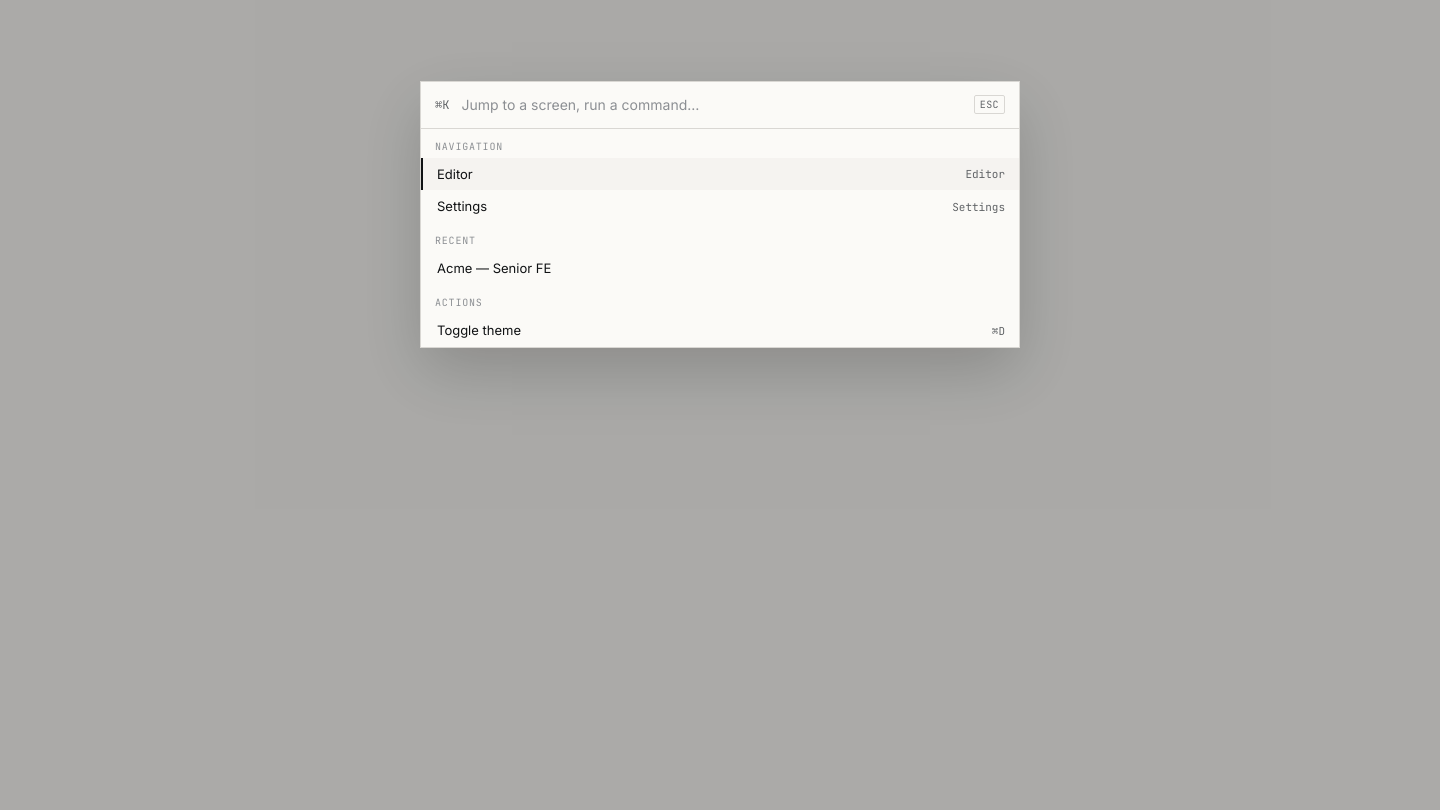
Test: typing matches against keywords as well as label
Type "latex" into the field named "search commands" at coordinates (712, 105), box [459,94,964,116]
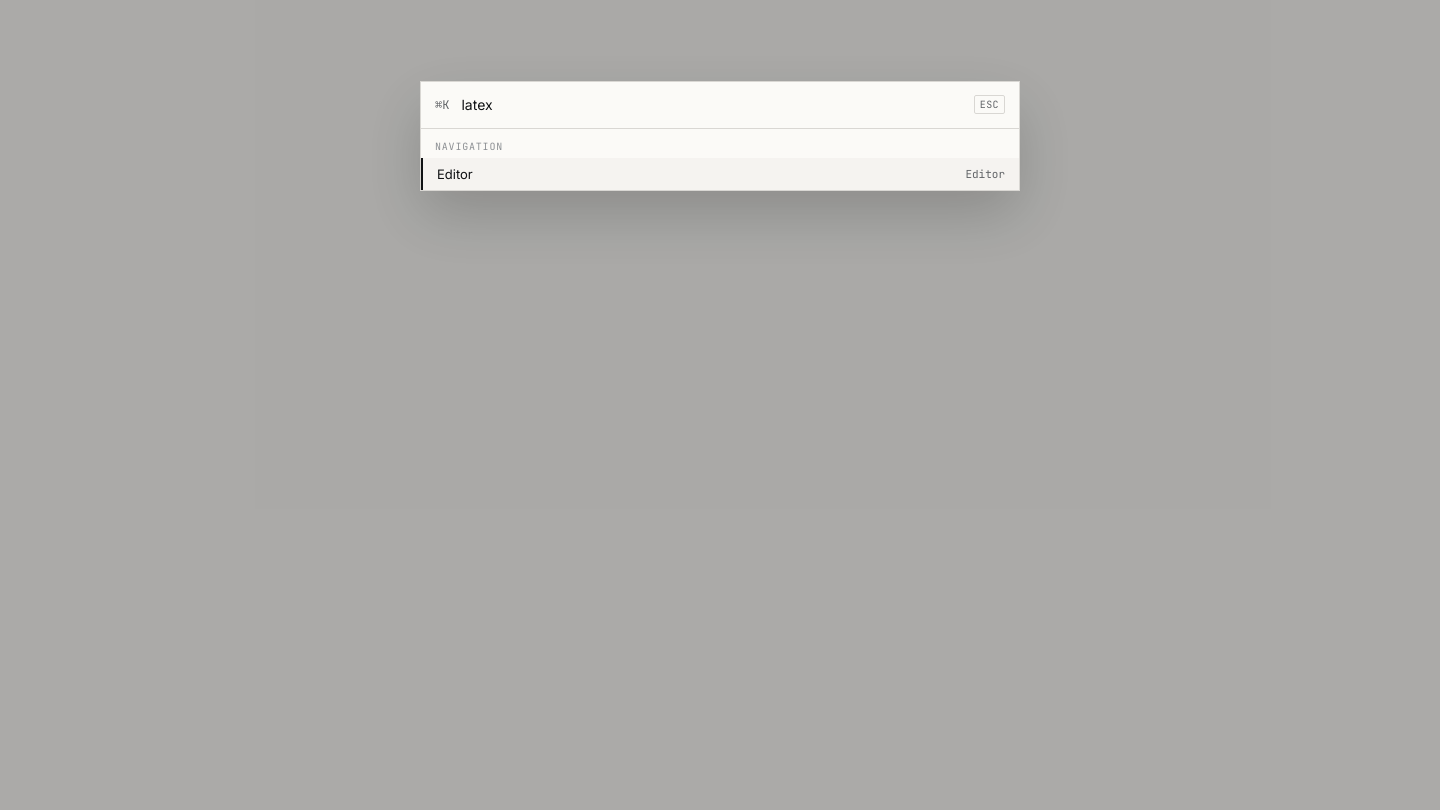
Expected: the option "Editor Editor" is shown, [421,158,1019,190]
Expected: the option "Settings" is gone
